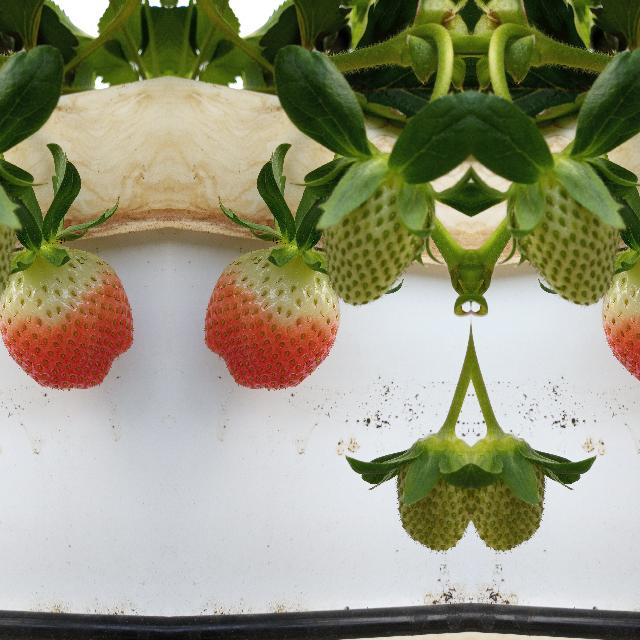Health_100: (202, 248, 341, 390), (0, 247, 134, 390), (600, 247, 640, 390)
Health_25: (309, 147, 421, 307), (520, 147, 632, 307), (392, 409, 470, 546), (471, 409, 549, 546), (0, 147, 27, 307)
